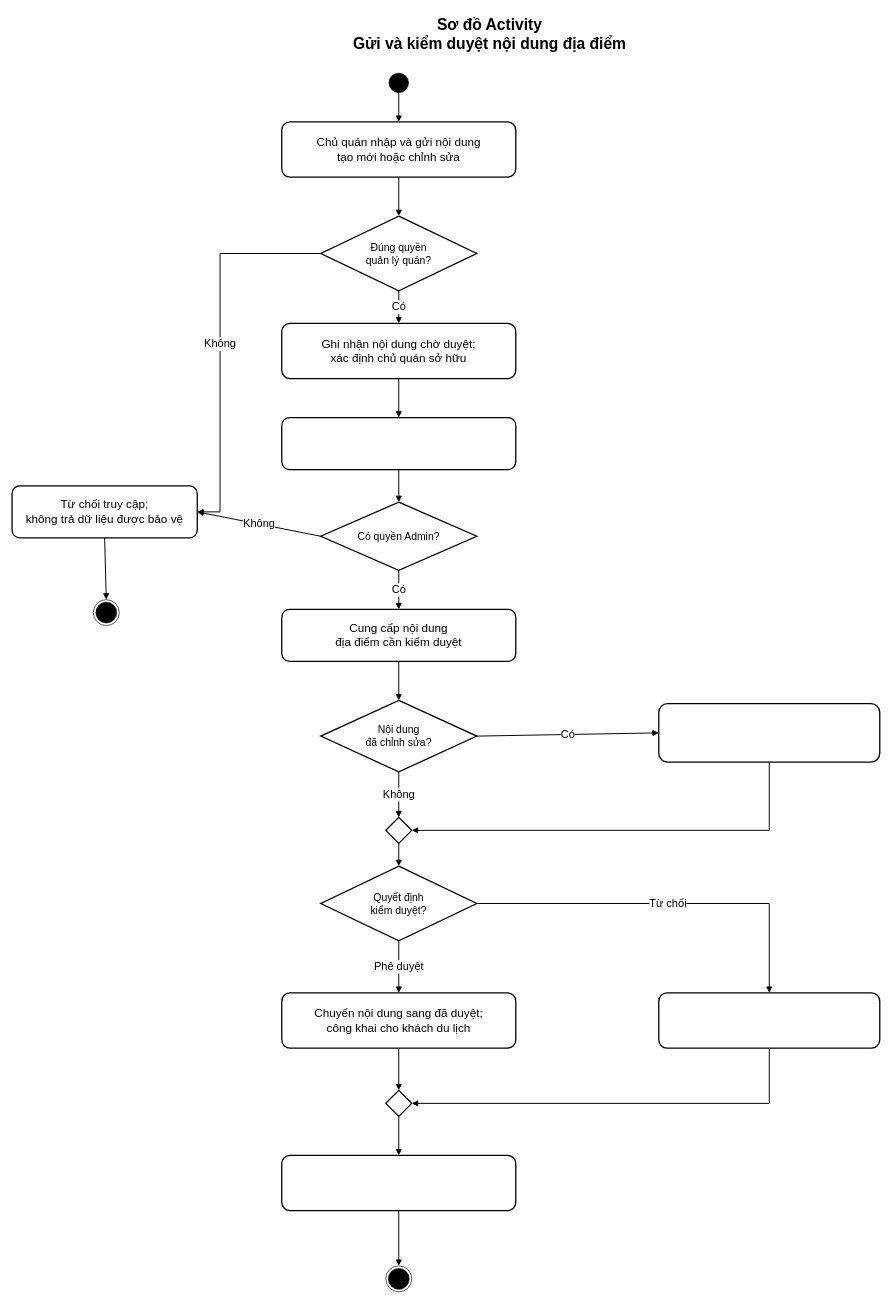
The diagram is 891 pixels wide and 1303 high, and some of its shapes have lost their labels. The shapes that lost their labels are listed below. From the top down, each one's centre as x and y in pixels, then its label:
At (398,443): "Admin chọn nội dung đang chờ xử lý".
At (769,732): "Admin xem và so sánh nội dung cũ với nội dung mới".
At (769,1020): "Ghi nhận nội dung bị từ chối; nội dung gửi duyệt không công khai".
At (398,1182): "Chủ quán xem trạng thái; xem lý do từ chối nếu có".
